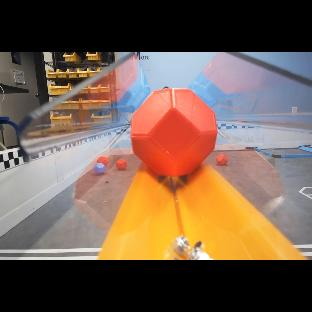Goal: (16, 52, 312, 260)
V5_RED: (130, 88, 217, 177)
redingoal: (130, 88, 217, 177)
